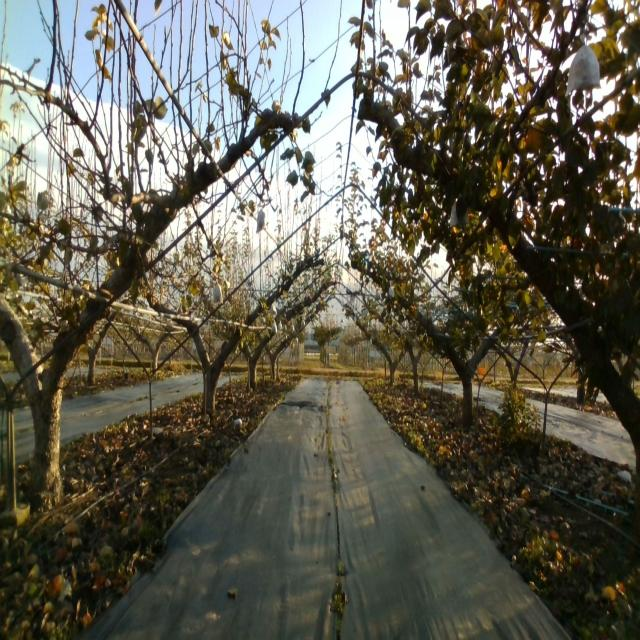pearbags: (563, 31, 601, 99), (211, 279, 225, 303)
